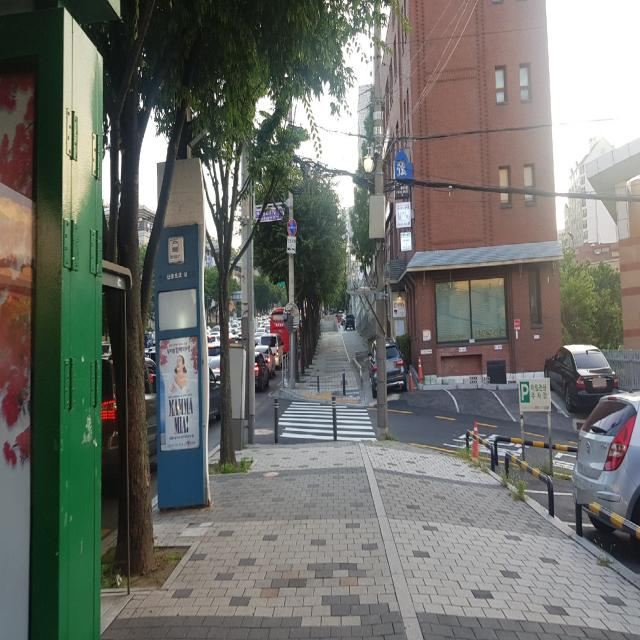횡단보도: (278, 402, 378, 442)
